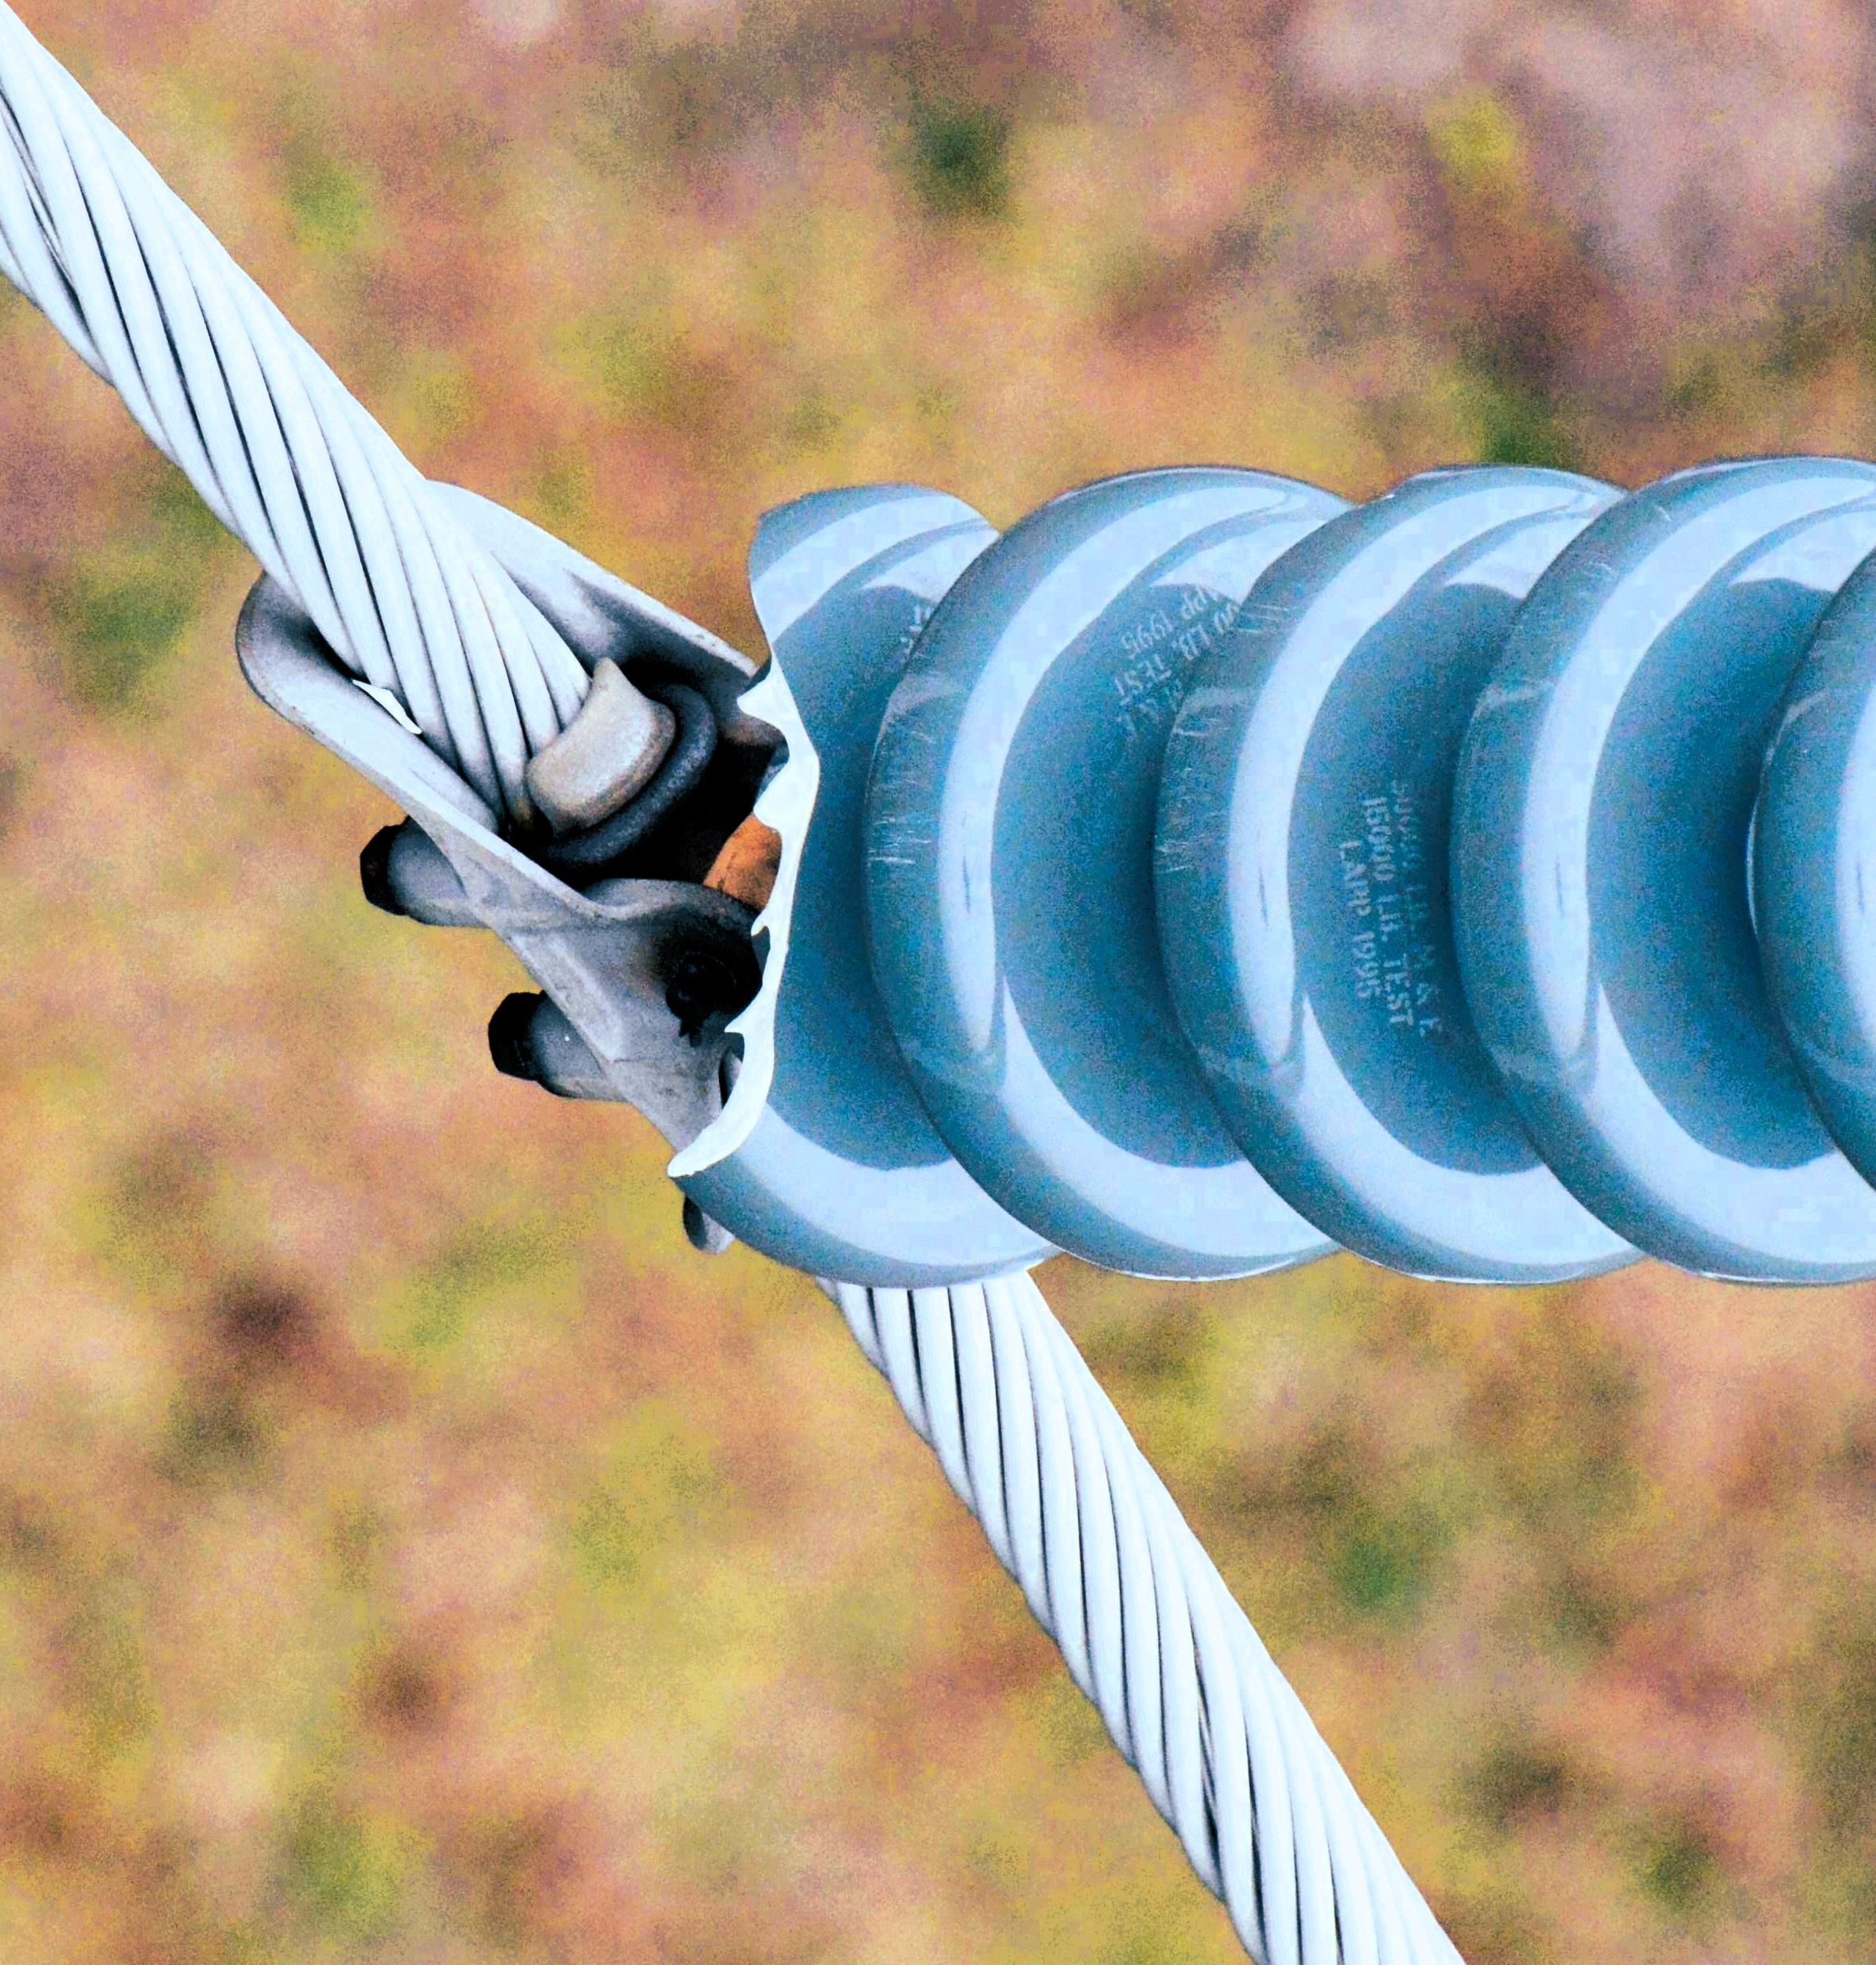insulator breakage: (646, 454, 1065, 1316)
